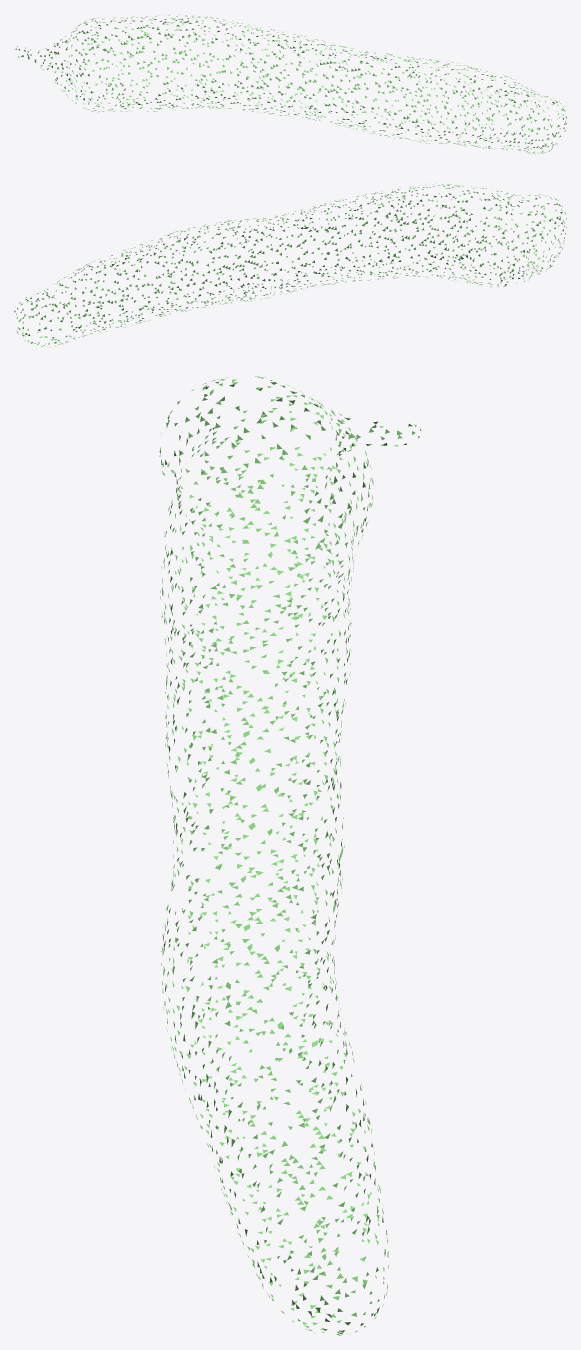
The model's file is morph_016.glb.
3 views of the same model, one above another, from view 1: azimuth 30°, elevation 25°; view 2: azimuth 150°, elevation 25°; view 3: azimuth 270°, elevation 25° (orthographic). The views are drawn at different scales.
Size of the model in its own units: 134 by 60.05 by 28.85.
